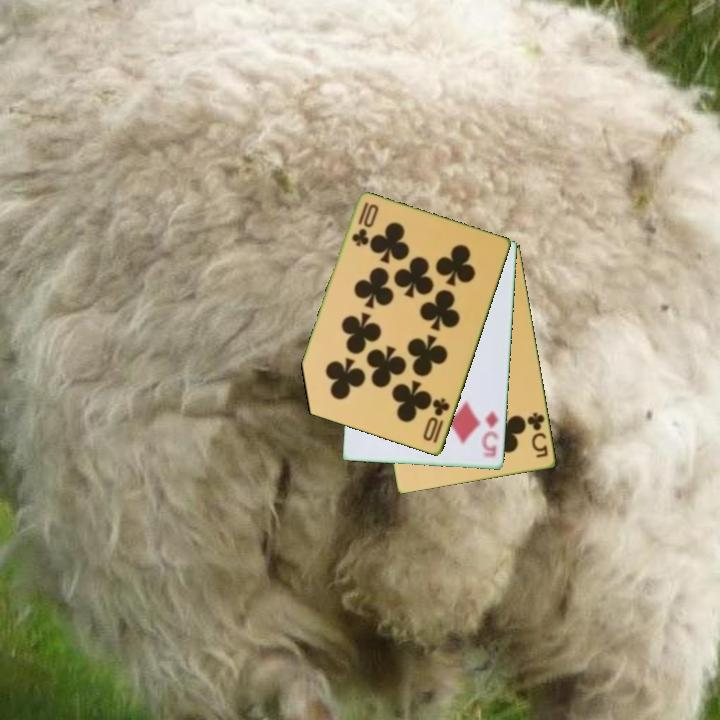10c: (420, 394, 453, 446), (348, 199, 381, 250)
5c: (524, 409, 551, 461)
5d: (478, 407, 503, 462)
